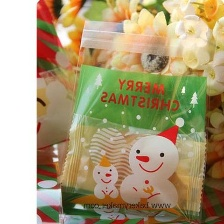snack: (52, 12, 221, 224)
